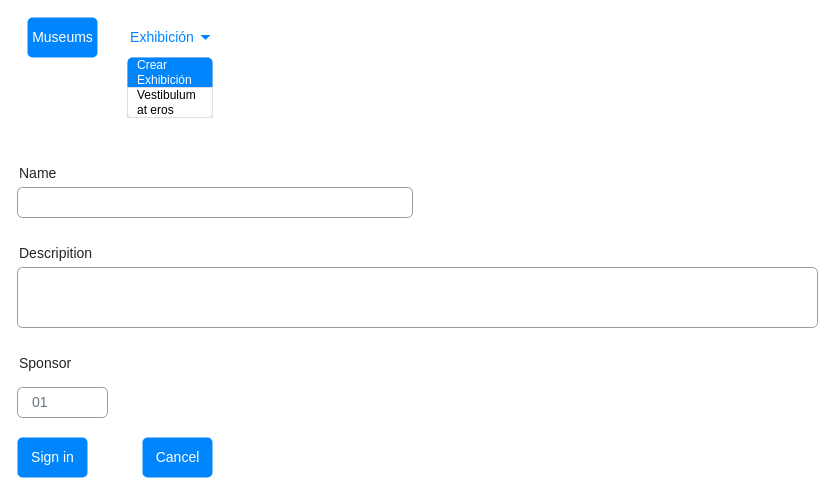
Image size: 835x494. Some labels were removed from this diagram. Each missing label, with the centre of its shape:
"One of the first - ever exhibitions to explore Raphael's complete career." goes at point (417, 297).
"Raphael" goes at point (214, 202).
